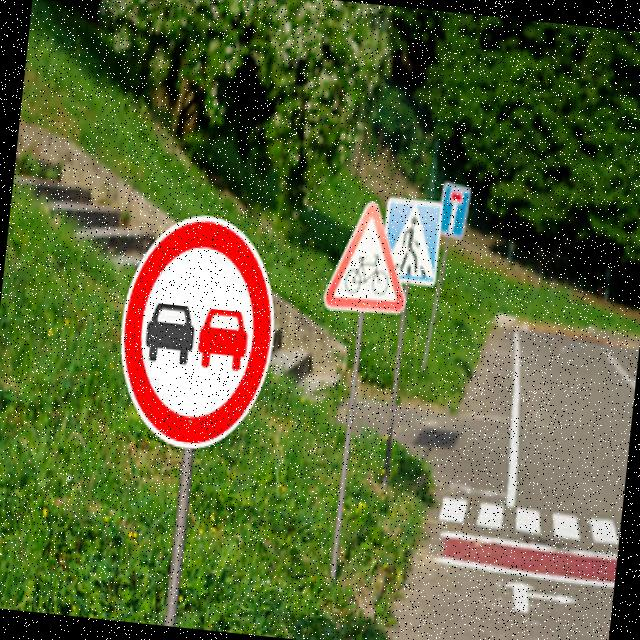no_passing: (102, 200, 288, 459)
